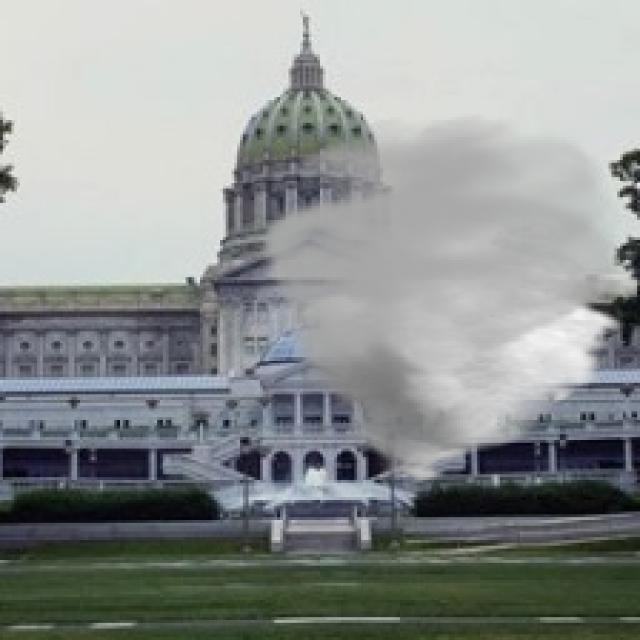smoke: (254, 114, 637, 486)
